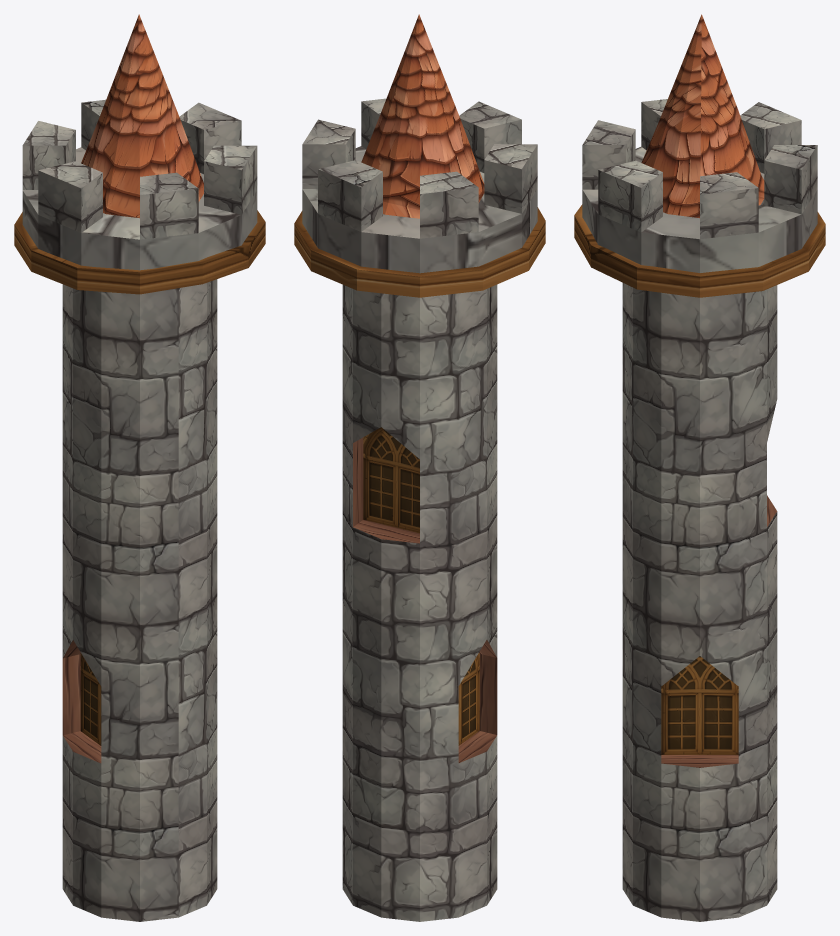
The model's file is Tours_Chapeau.fbx.
3 renders of one model, left to right at view 1: azimuth 30°, elevation 25°; view 2: azimuth 150°, elevation 25°; view 3: azimuth 270°, elevation 25°, orthographic.
Visible parts, largest first — view 1: Tower Base, Cubes, Roof, Support.001, Support, Frame 3; view 2: Tower Base, Cubes, Roof, Support.001, Support, Frame 2, Frame 3; view 3: Tower Base, Cubes, Roof, Support.001, Frame 1, Support.
Boxes of the visible parts, x1,y1,x2,y2 form: Tower Base: [62, 279, 217, 921]; Cubes: [22, 99, 257, 239]; Roof: [81, 14, 203, 218]; Support.001: [22, 147, 257, 270]; Support: [14, 210, 265, 294]; Frame 3: [62, 640, 101, 763]; Tower Base: [342, 284, 497, 921]; Cubes: [302, 98, 537, 238]; Roof: [361, 14, 484, 218]; Support.001: [302, 146, 537, 273]; Support: [294, 207, 545, 297]; Frame 2: [353, 427, 419, 543]; Frame 3: [458, 640, 497, 762]; Tower Base: [622, 283, 777, 921]; Cubes: [582, 99, 817, 239]; Roof: [641, 14, 764, 218]; Support.001: [582, 146, 817, 272]; Frame 1: [661, 656, 738, 767]; Support: [574, 204, 825, 297].
Size of the model in its own units: 325 by 1250 by 325.
